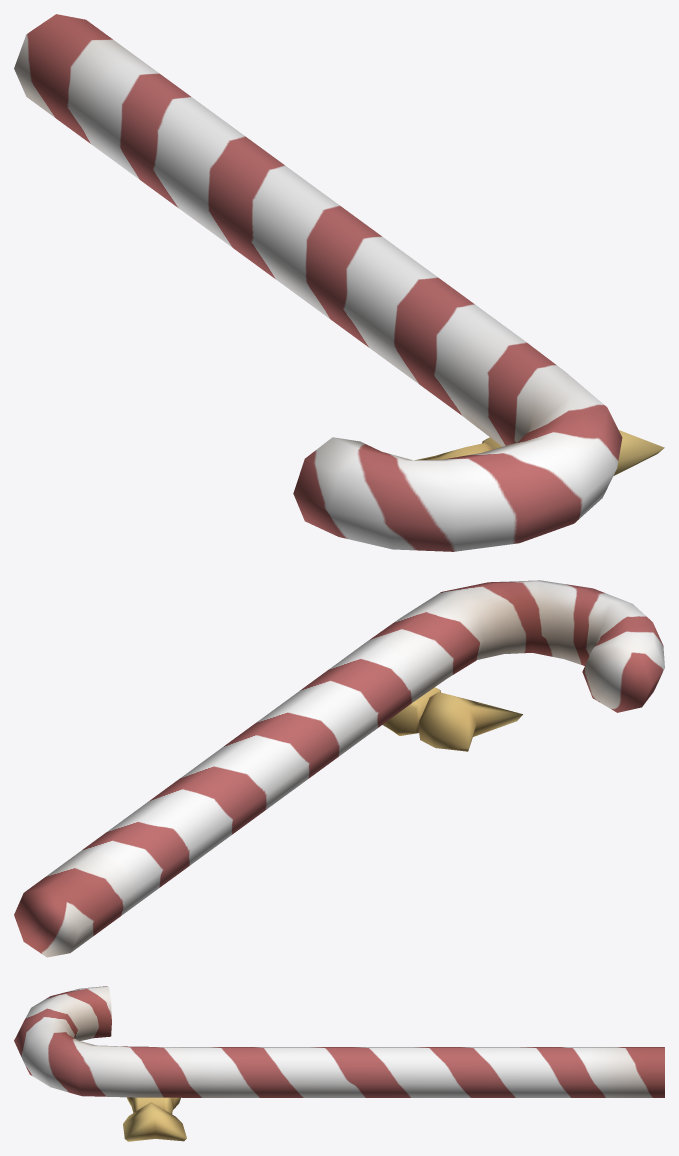
File: Candy_cane_staff.fbx
3 renders of one model, top to bottom at view 1: azimuth 30°, elevation 25°; view 2: azimuth 150°, elevation 25°; view 3: azimuth 270°, elevation 25°, orthographic. The views are drawn at different scales.
Visible parts, largest first — view 1: Candy_cane_staff; view 2: Candy_cane_staff; view 3: Candy_cane_staff.
Part boxes in pixels (x1,y1,x2,y2): Candy_cane_staff: [14, 14, 664, 551]; Candy_cane_staff: [14, 580, 664, 957]; Candy_cane_staff: [14, 986, 664, 1141].
Bounding box in the file's own units: 35.3 × 11.74 × 92.61.
1 material, 1 textured.
